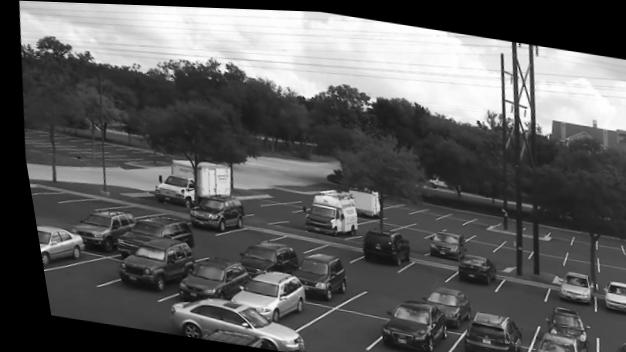empty: (281, 302, 374, 345), (35, 253, 113, 287), (483, 271, 541, 301), (344, 281, 395, 308), (480, 297, 524, 325), (262, 229, 317, 251), (394, 257, 445, 279), (213, 223, 270, 240), (25, 189, 89, 203), (306, 236, 352, 255), (182, 238, 224, 257), (592, 316, 626, 339), (589, 259, 626, 277), (259, 198, 305, 211), (519, 249, 561, 263), (482, 242, 524, 256), (58, 199, 115, 209), (108, 203, 155, 215), (495, 232, 532, 247), (385, 223, 424, 237), (465, 225, 500, 240), (556, 244, 590, 258), (556, 255, 589, 269), (561, 230, 591, 245), (538, 226, 568, 241), (589, 248, 621, 262), (393, 234, 421, 250), (403, 214, 438, 226), (527, 239, 559, 252), (589, 234, 615, 250), (458, 235, 492, 247), (437, 221, 470, 233), (373, 209, 408, 220), (460, 213, 494, 224), (353, 217, 392, 226), (477, 251, 500, 266), (432, 209, 463, 219), (407, 205, 436, 215), (381, 201, 413, 210), (617, 239, 626, 251)
occupied: (218, 266, 305, 327), (164, 253, 243, 307), (110, 236, 187, 291), (368, 296, 440, 349), (447, 308, 516, 352), (298, 188, 351, 234), (179, 191, 235, 234), (285, 253, 337, 298), (67, 212, 125, 251), (230, 242, 297, 274), (355, 227, 403, 270), (29, 226, 76, 265), (417, 283, 459, 326), (114, 215, 184, 240), (524, 323, 576, 352), (450, 250, 487, 283), (420, 227, 456, 259), (550, 269, 583, 299), (595, 278, 626, 309), (541, 305, 574, 332), (604, 339, 626, 352)
